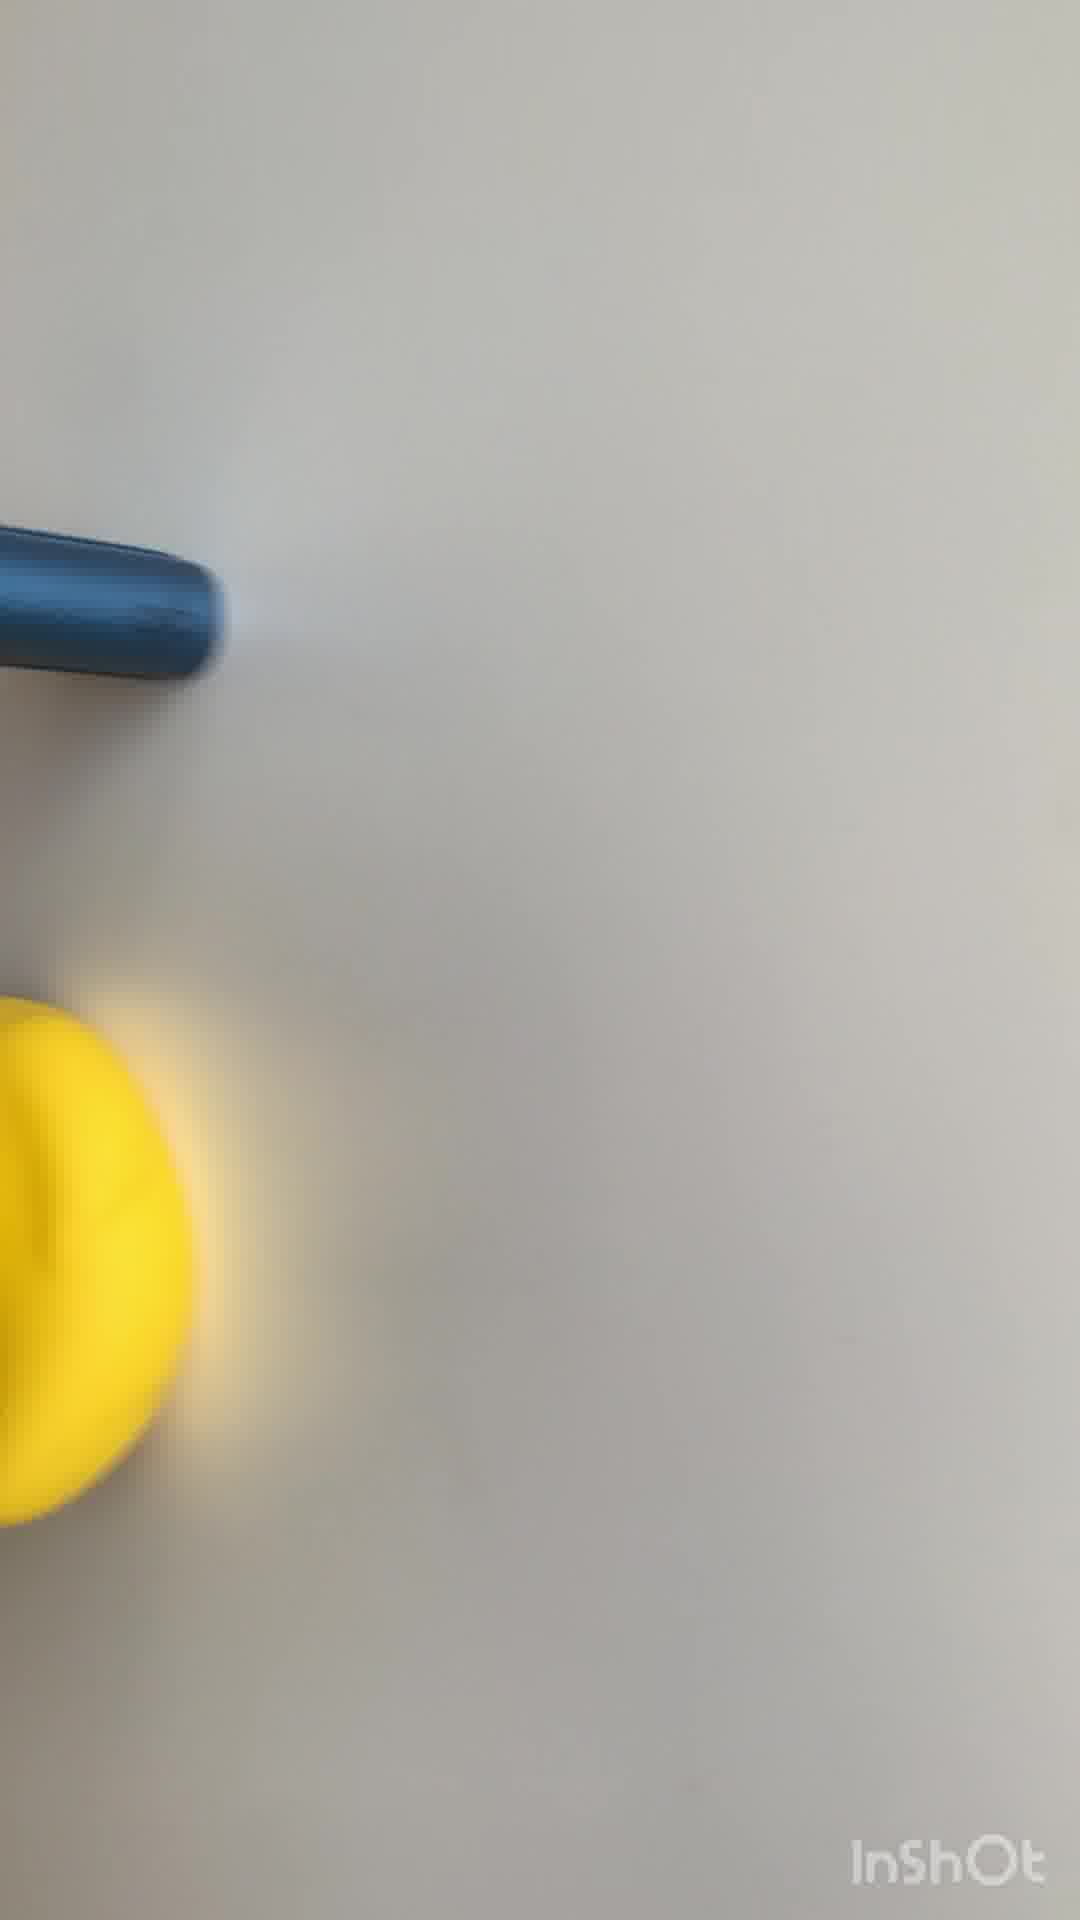duck: (1, 980, 195, 1553)
glo: (1, 518, 241, 700)
